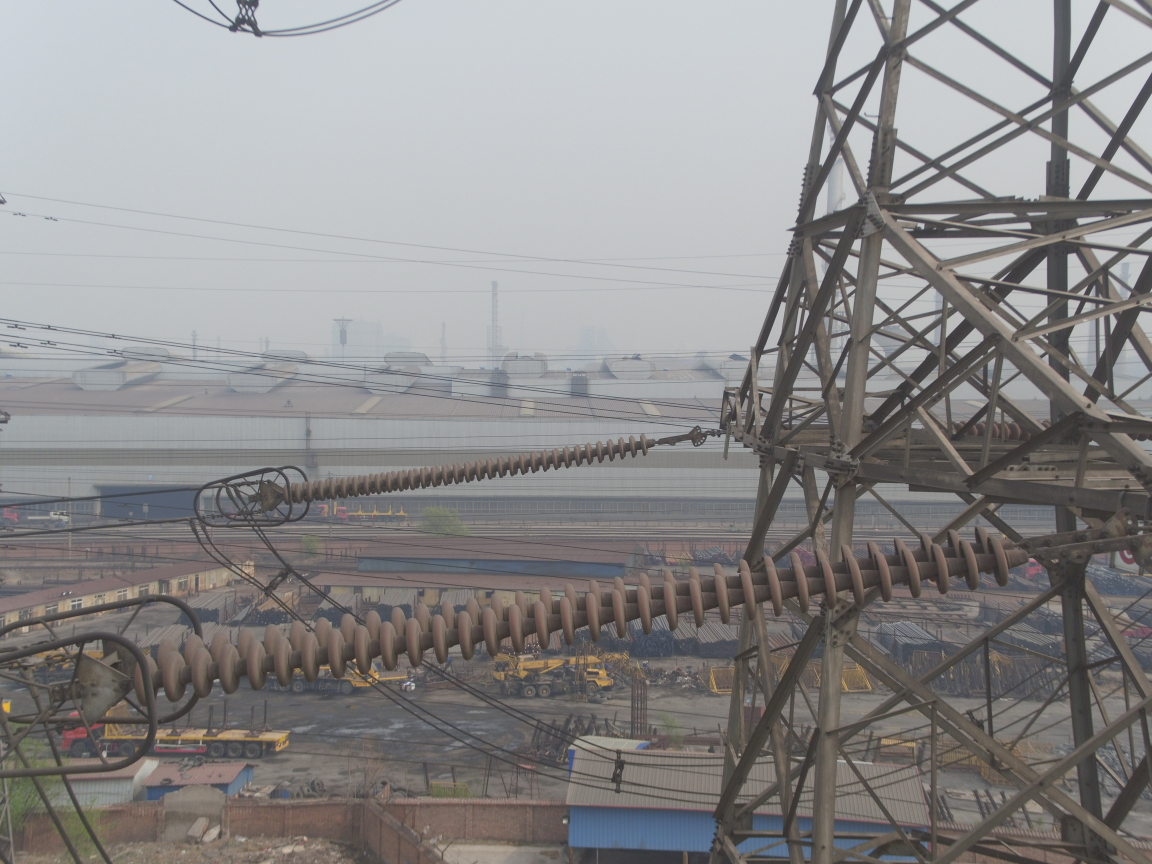insulator: (118, 520, 1060, 708), (272, 431, 675, 508)
